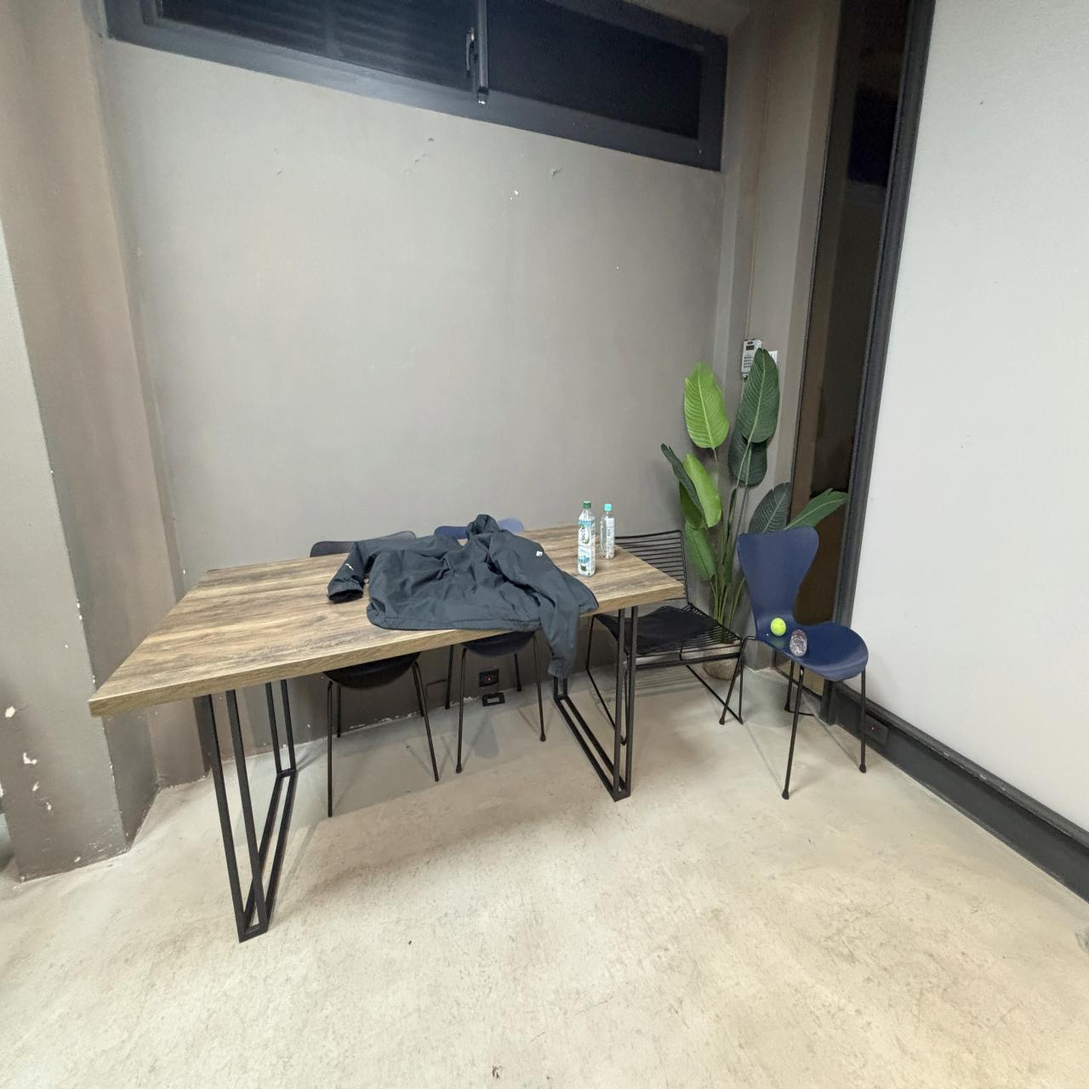plastic-bottle: (579, 501, 596, 576), (600, 503, 615, 559)
tennisball: (771, 618, 786, 636)
